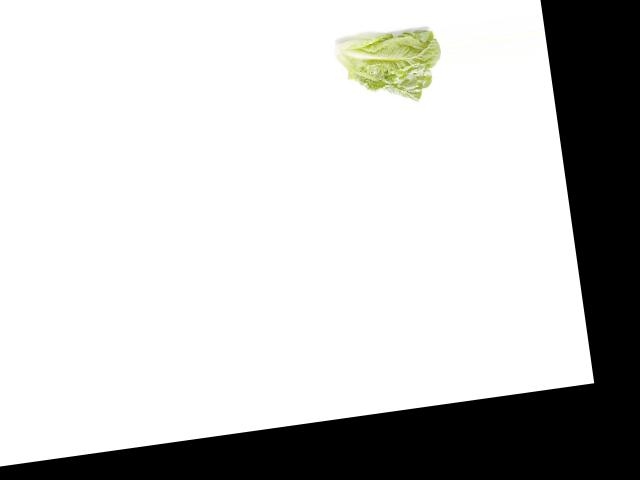lettuce: (326, 10, 447, 112)
